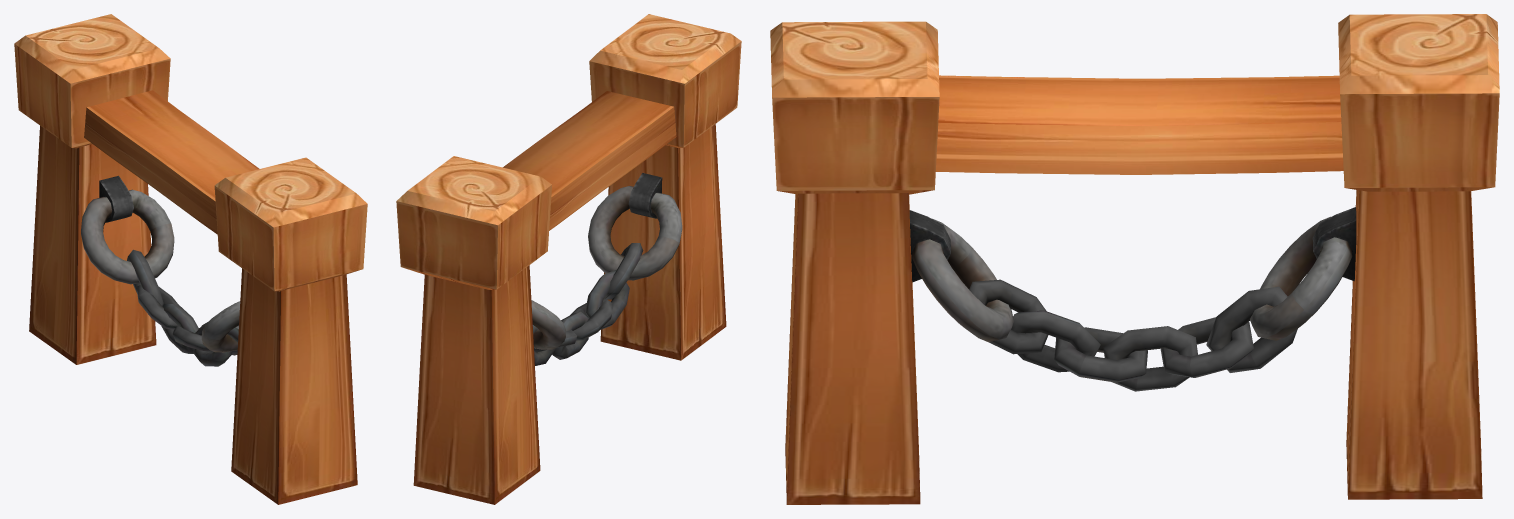
3 views of the same model, side by side, from view 1: azimuth 30°, elevation 25°; view 2: azimuth 150°, elevation 25°; view 3: azimuth 270°, elevation 25° (orthographic). The views are drawn at different scales.
Parts seen in each view (by area): view 1: mala_ograda; view 2: mala_ograda; view 3: mala_ograda.
Part boxes in pixels (x1,y1,x2,y2): mala_ograda: (14,14,367,504); mala_ograda: (396,14,741,504); mala_ograda: (770,14,1499,504).
Bounding box in the file's own units: 0.00248 × 0.00679 × 0.0105.
2 materials, 2 textured.
